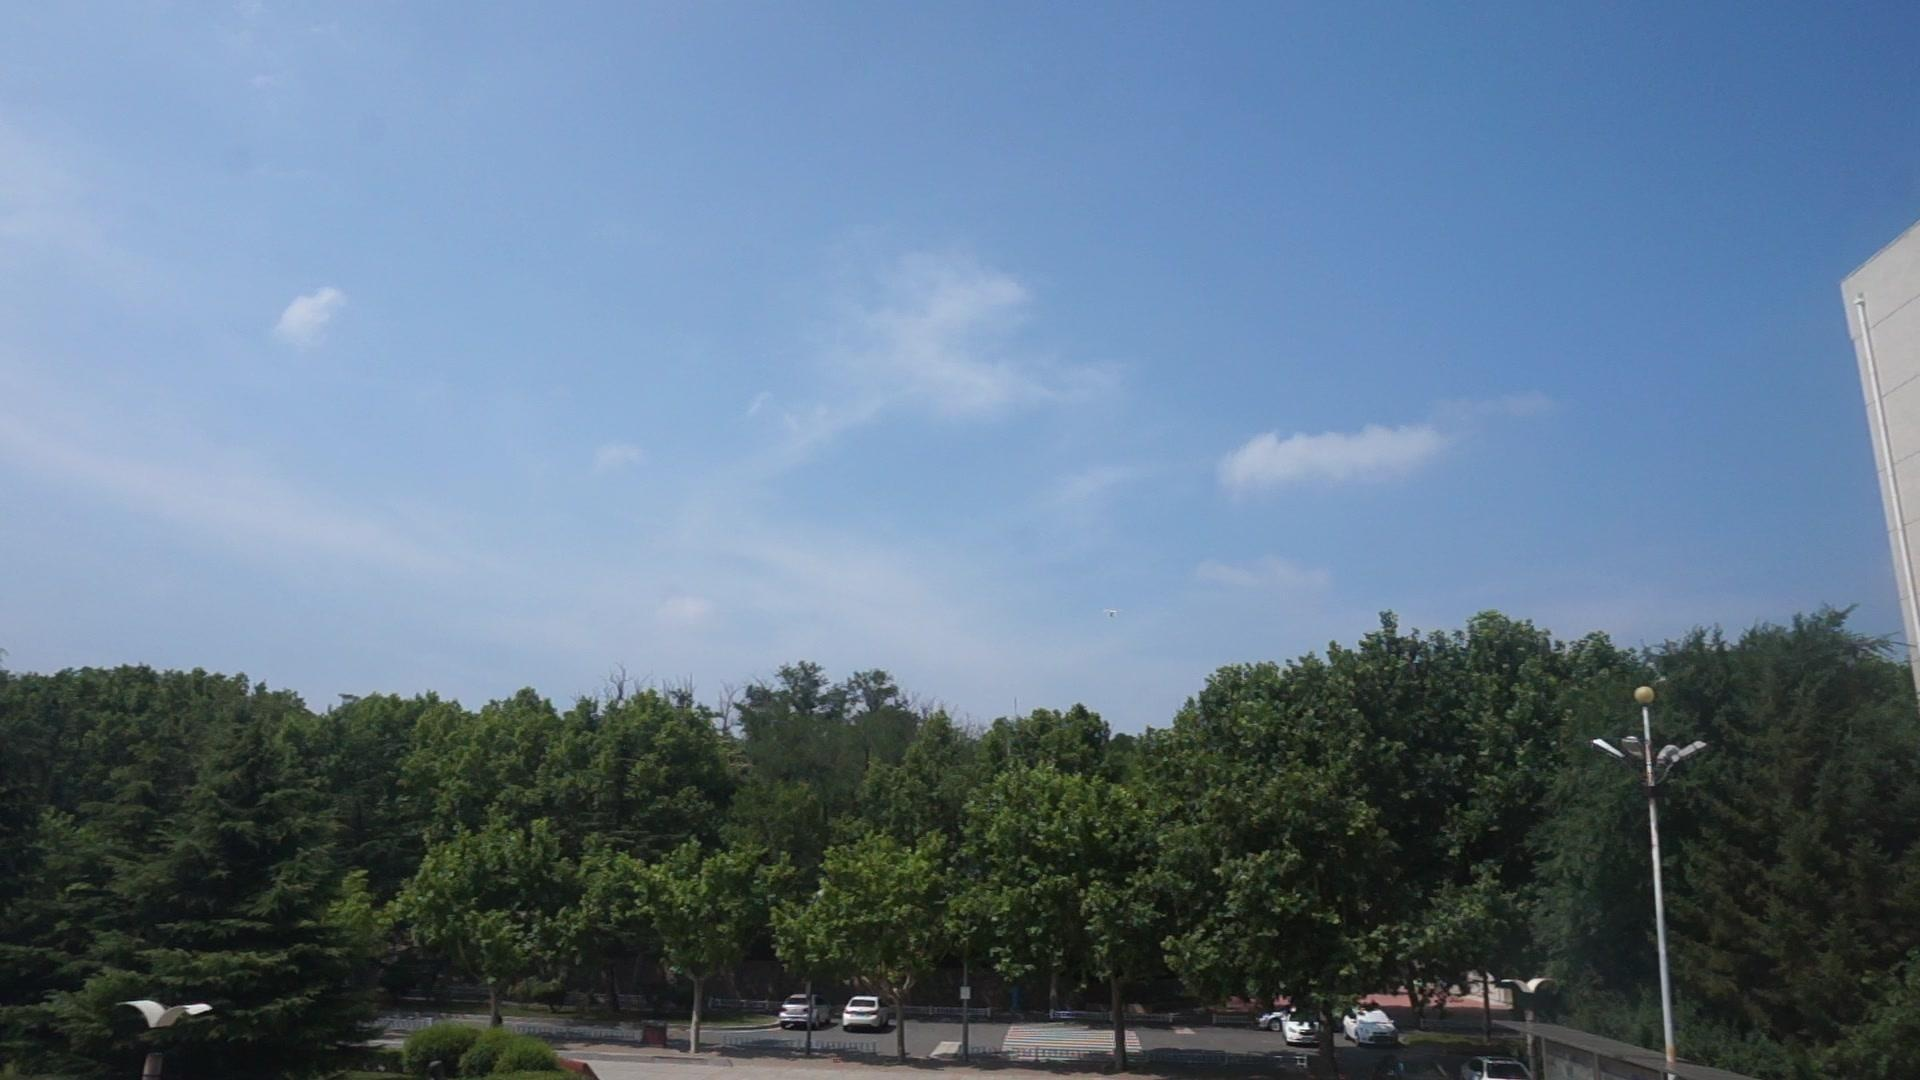UAV: (1105, 609, 1121, 618)
